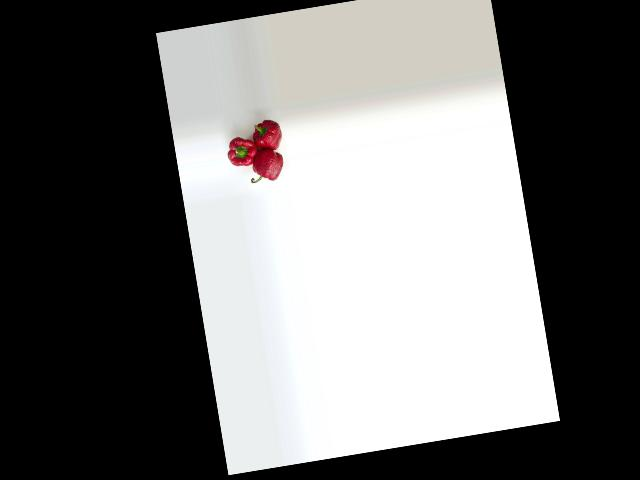bell_pepper: (245, 148, 288, 191)
